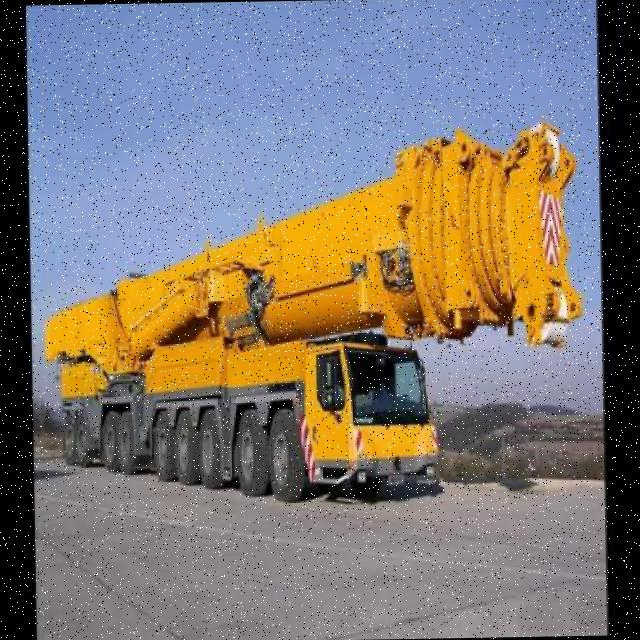Mobile Crane: (39, 121, 585, 504)
